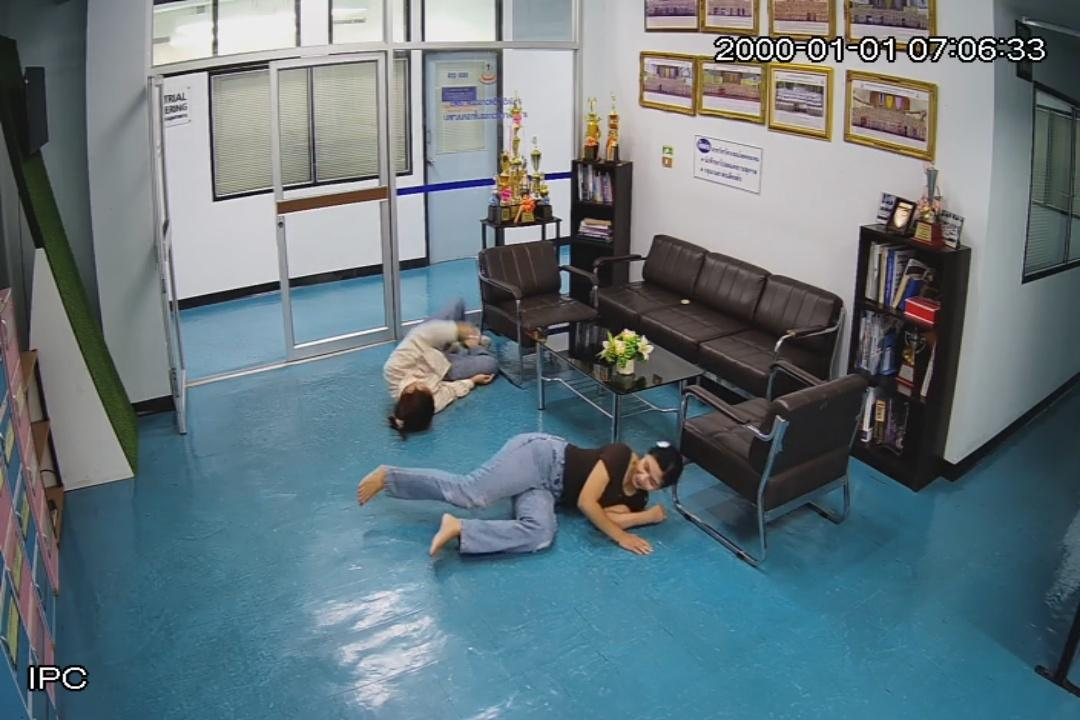fall: (358, 428, 690, 562), (382, 304, 508, 436)
